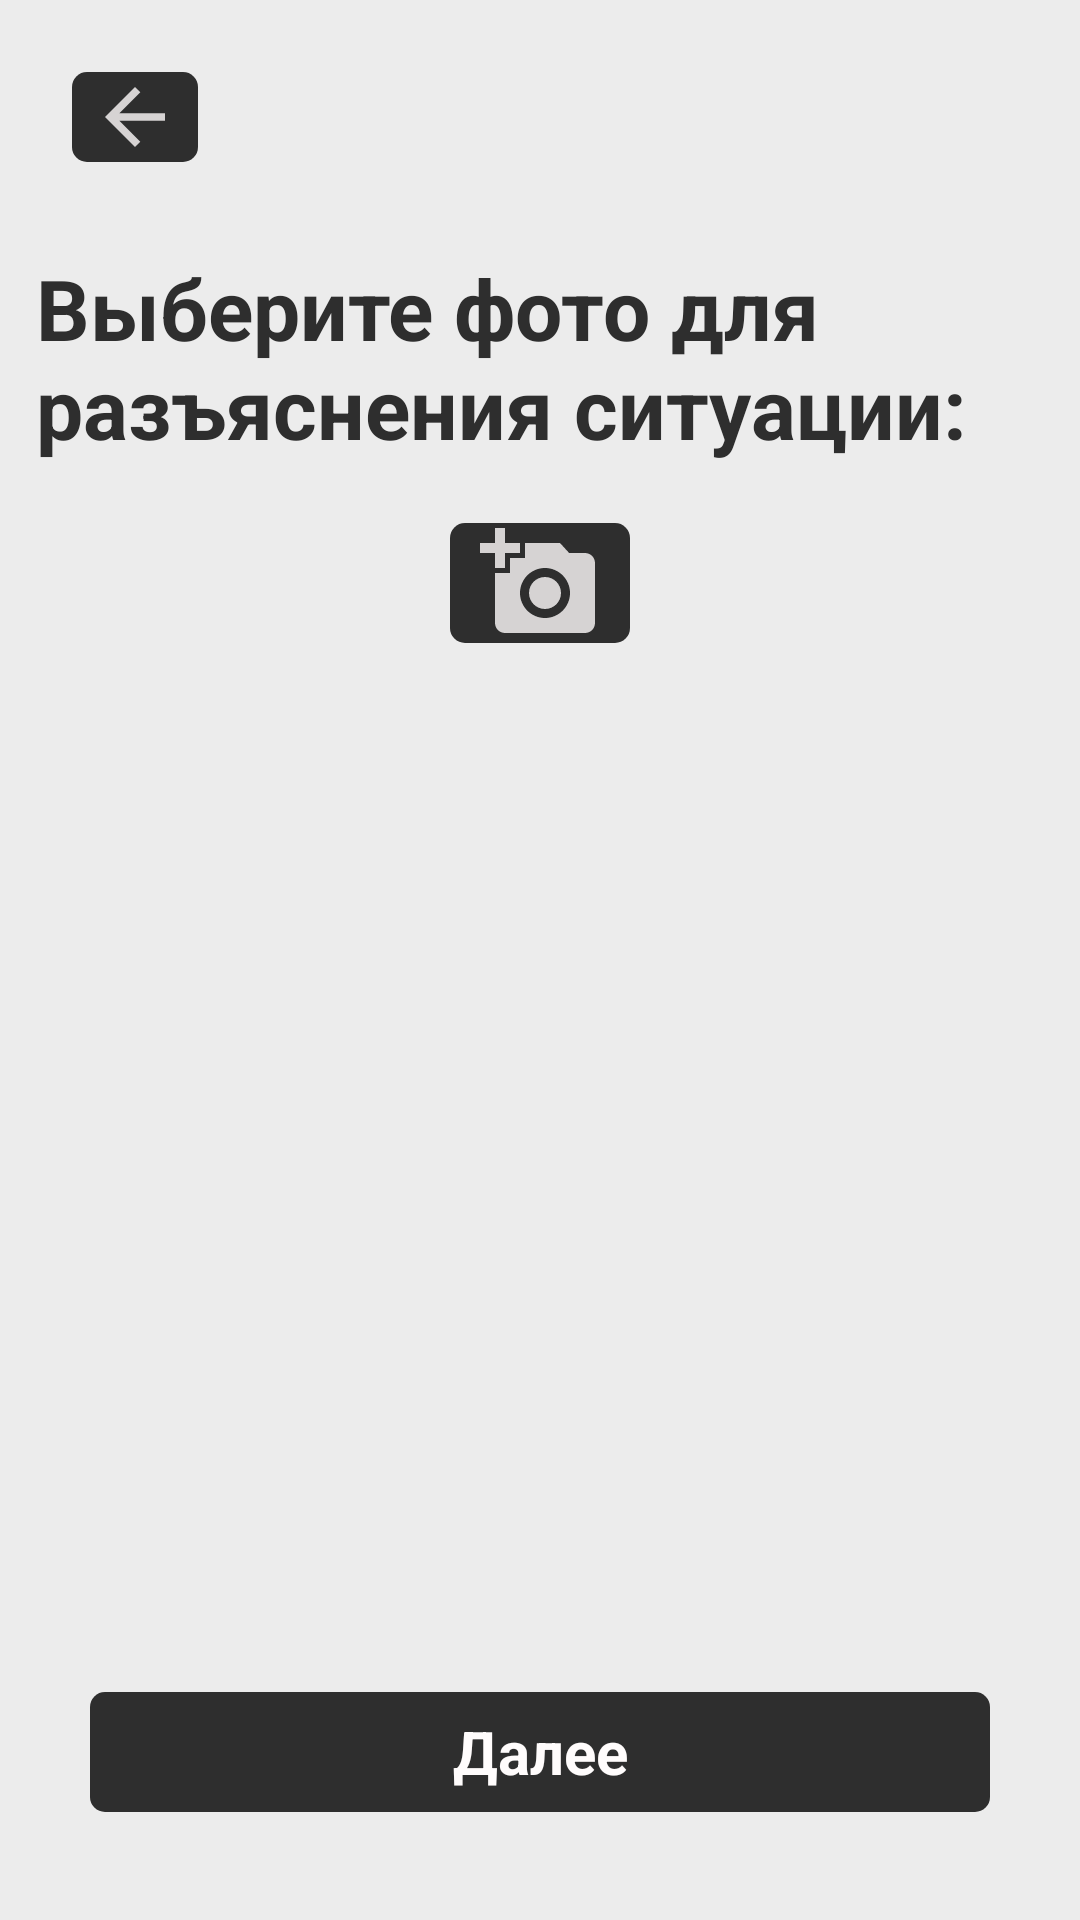

Screen size 1080px x 1920px. Icon name, then its center in pixels as point (x, y):
attach photos: point (540, 583)
back: point (135, 117)
